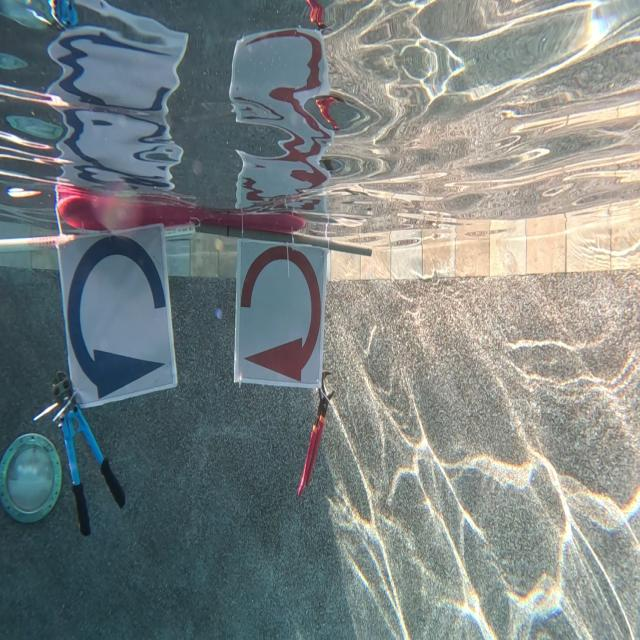blue_side: (56, 231, 176, 397)
red_side: (233, 237, 323, 384)
